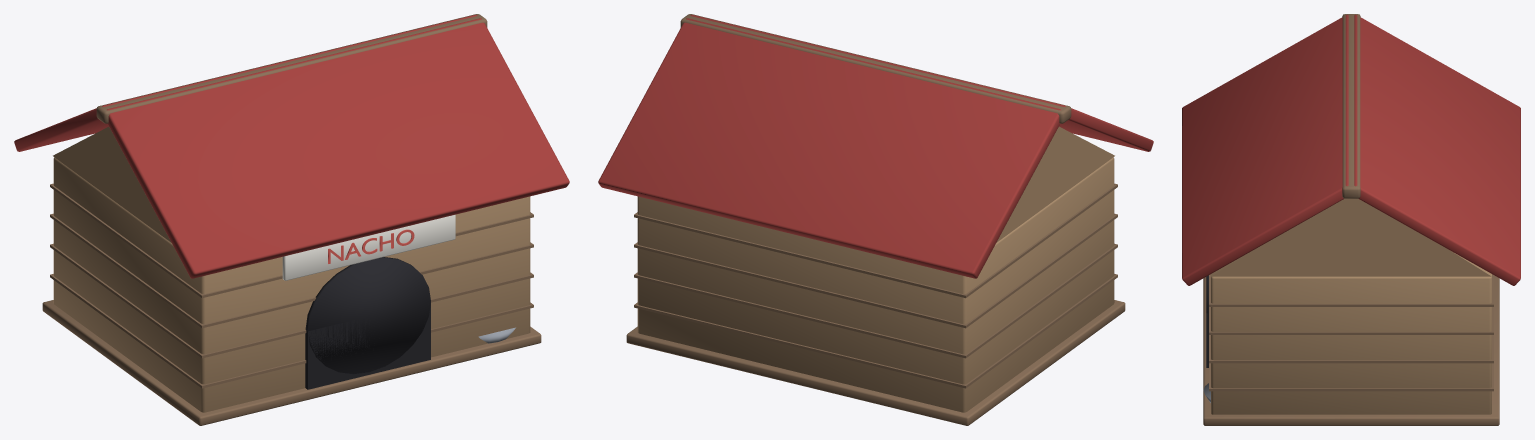
Rendered from kennel.glb.
The picture shows the model from 3 angles, left to right: view 1: azimuth 30°, elevation 25°; view 2: azimuth 150°, elevation 25°; view 3: azimuth 270°, elevation 25°; orthographic projection. The views are drawn at different scales.
Visible parts, largest first — view 1: Cube.006, Cube.001, Cone, Cube, gable, Cube.010, Cube.008, Cube.009, Cube.007, Cube.004, Cube.003, Cube.002 (+2 smaller); view 2: Cube.007, Cube.001, Cube, gable, Cube.008, Cube.006, Cube.003, Cube.004, Cube.005, Cube.002; view 3: Cube.001, Cube.006, Cube.007, gable, Cube, Cube.008, Cube.002, Cube.003, Cube.005, Cube.004.
Boxes of the visible parts, x1,y1,x2,y2 form: Cube.006: [107, 18, 569, 278]; Cube.001: [53, 157, 530, 412]; Cone: [305, 257, 430, 374]; Cube: [42, 300, 541, 425]; gable: [53, 126, 171, 242]; Cube.010: [282, 214, 455, 280]; Cube.008: [96, 14, 487, 123]; Cube.009: [305, 303, 430, 389]; Cube.007: [14, 15, 477, 151]; Cube.004: [50, 213, 533, 328]; Cube.003: [50, 243, 533, 358]; Cube.002: [50, 274, 533, 388]; Cube.007: [598, 18, 1060, 278]; Cube.001: [637, 157, 1114, 412]; Cube: [626, 300, 1125, 425]; gable: [996, 126, 1114, 242]; Cube.008: [680, 14, 1071, 123]; Cube.006: [690, 15, 1153, 151]; Cube.003: [634, 243, 1117, 358]; Cube.004: [634, 213, 1117, 328]; Cube.005: [634, 183, 1117, 298]; Cube.002: [634, 274, 1117, 388]; Cube.001: [1211, 276, 1491, 414]; Cube.006: [1182, 14, 1348, 285]; Cube.007: [1354, 14, 1520, 285]; gable: [1211, 198, 1491, 276]; Cube: [1203, 275, 1499, 425]; Cube.008: [1342, 14, 1360, 198]; Cube.002: [1209, 363, 1493, 391]; Cube.003: [1209, 335, 1493, 363]; Cube.005: [1209, 274, 1493, 306]; Cube.004: [1209, 307, 1493, 334].
Bounding box in the file's own units: 112 × 74.05 × 91.55.
